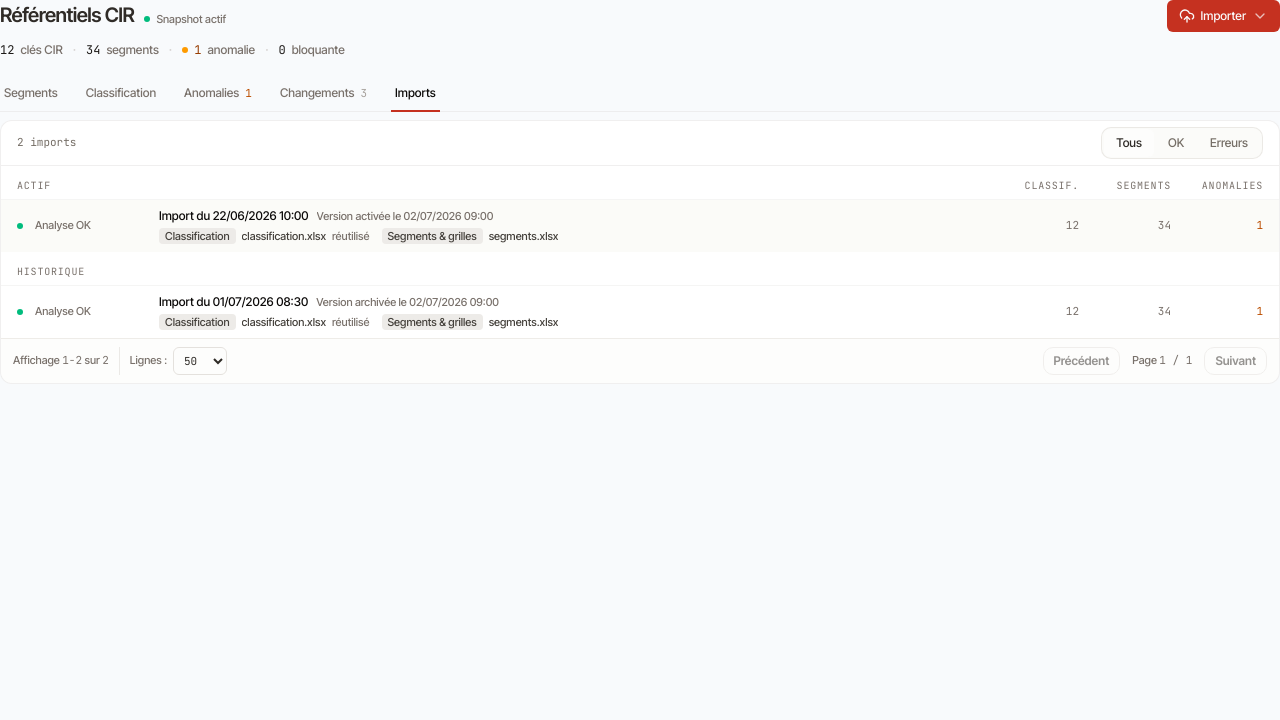
PricingReferencesPage › affiche le cycle de vie et navigue dans la chaîne remplacée par / remplace
Step 1. Click the button with aria-label "voir le détail de l'import du" → (63, 311), box 1,286 -> 1279,338
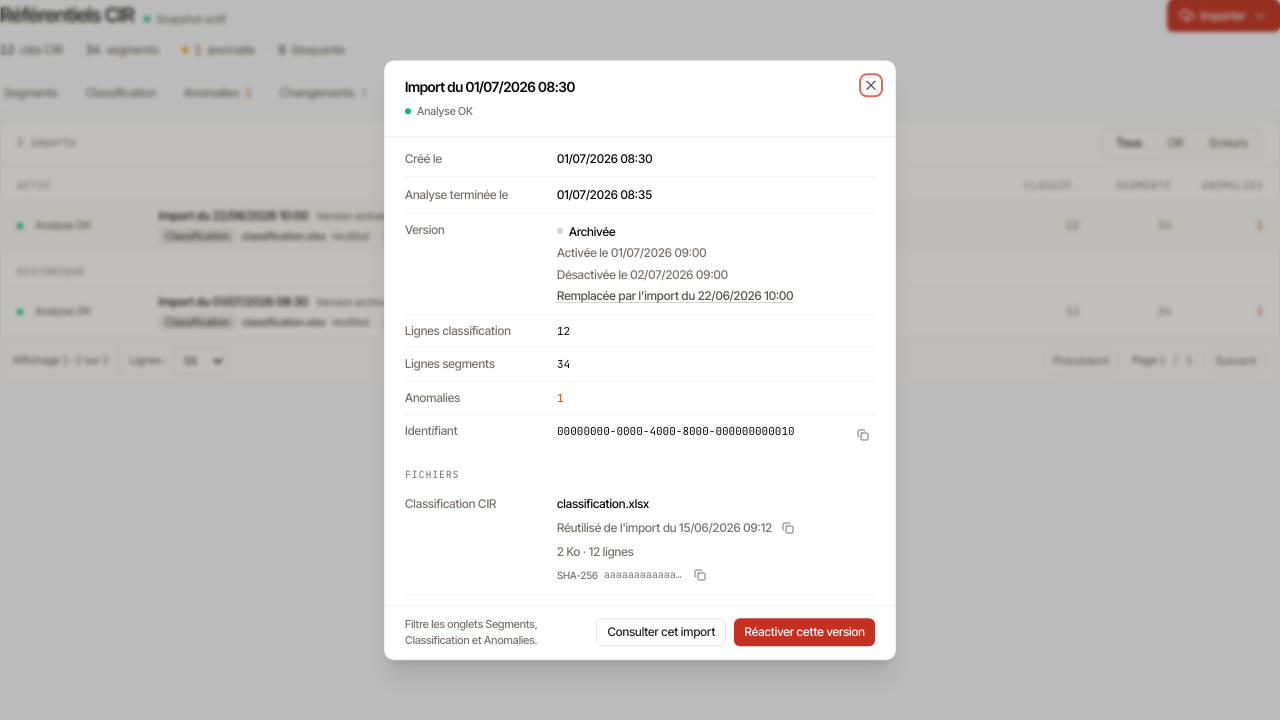
expect the text "Archivée" is shown: met, box 557,224 -> 615,239
expect the dialog shows "activée le": met, box 557,245 -> 611,260
expect the dialog shows "désactivée le": met, box 557,267 -> 630,282
Step 2. Click the button "Remplacée par l'import du 22/06/2026 10:00" → (675, 296), box 557,286 -> 794,306
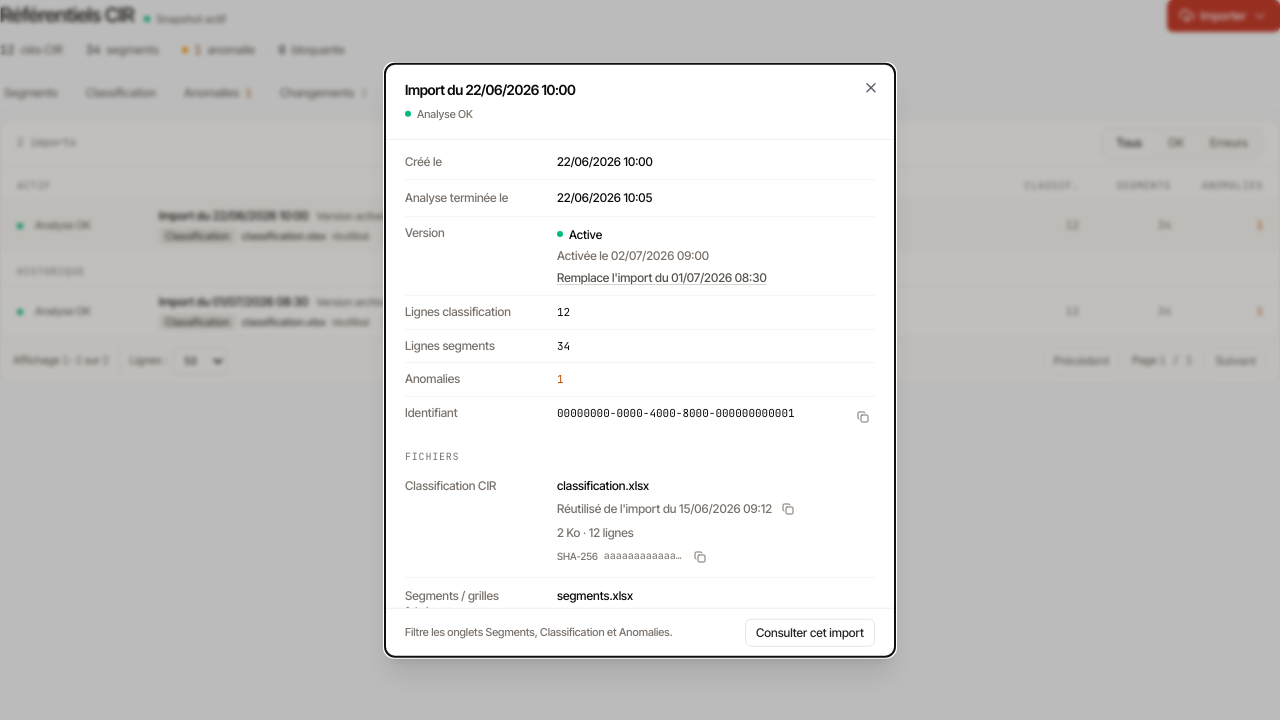
expect the text "Active" is shown: met, box 557,226 -> 602,241
expect the button "Remplace l'import du 01/07/2026 08:30" is shown: met, box 557,267 -> 767,287
